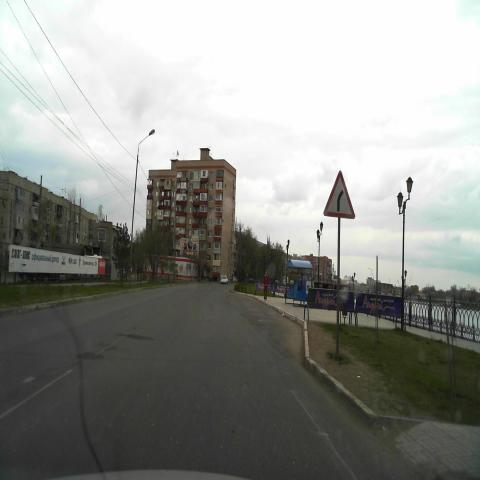1_11: (322, 168, 357, 220)
